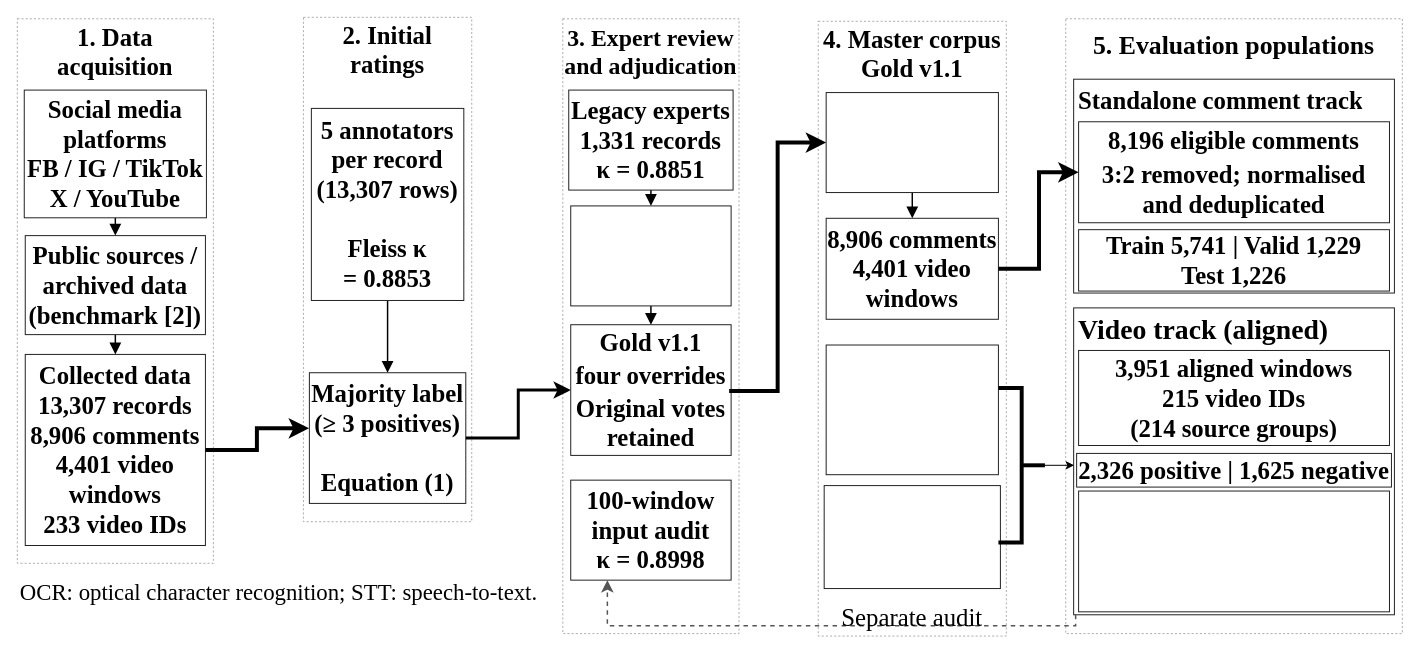
Some shapes in this 1420 by 653 pixel diagram are drawn without their labels. Here are the shapes that lost their labels. From the top down, the centre of each, then its label:
At [911,142]: "13,307 records 7,252 positive 6,055 negative".
At [650,255]: "153-window label review κ = 0.8954".
At [911,409]: "Linked evidence: frame / audio / OCR / STT".
At [911,537]: "450 alignment exclusions (for video track)".
At [1233,551]: "OCR + STT: 1,275 OCR only: 760 STT only: 1,231 Neither: 685".
